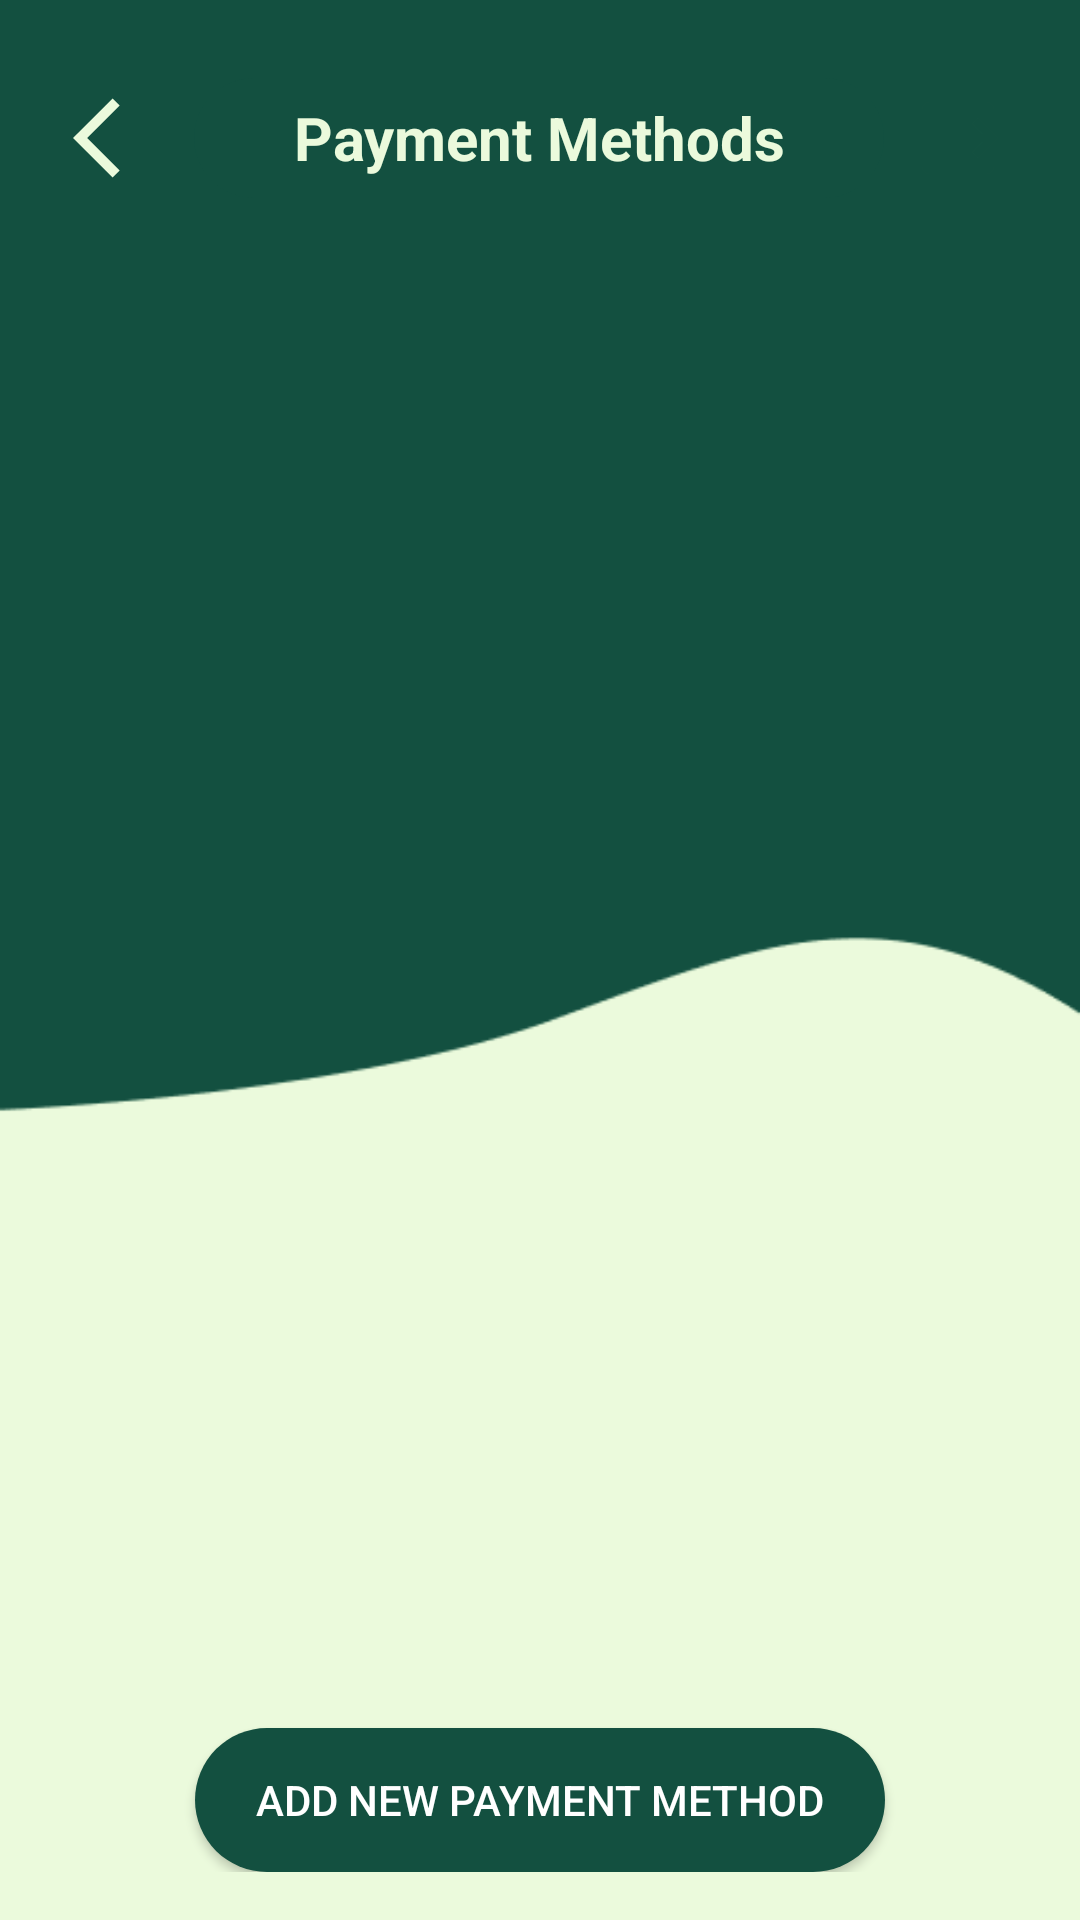

Point at icon controls on the screen. Image size 1080 x 1920, points as point (x, y).
Back Button: point (96, 138)
